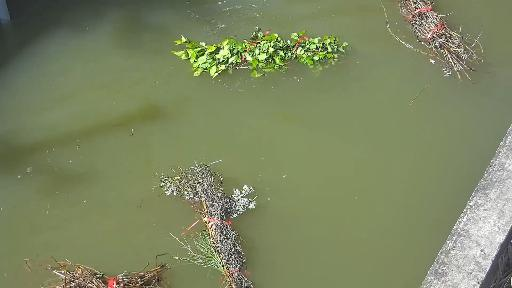twig: (174, 156, 284, 288), (195, 35, 416, 87), (381, 0, 478, 78), (42, 246, 158, 288)
